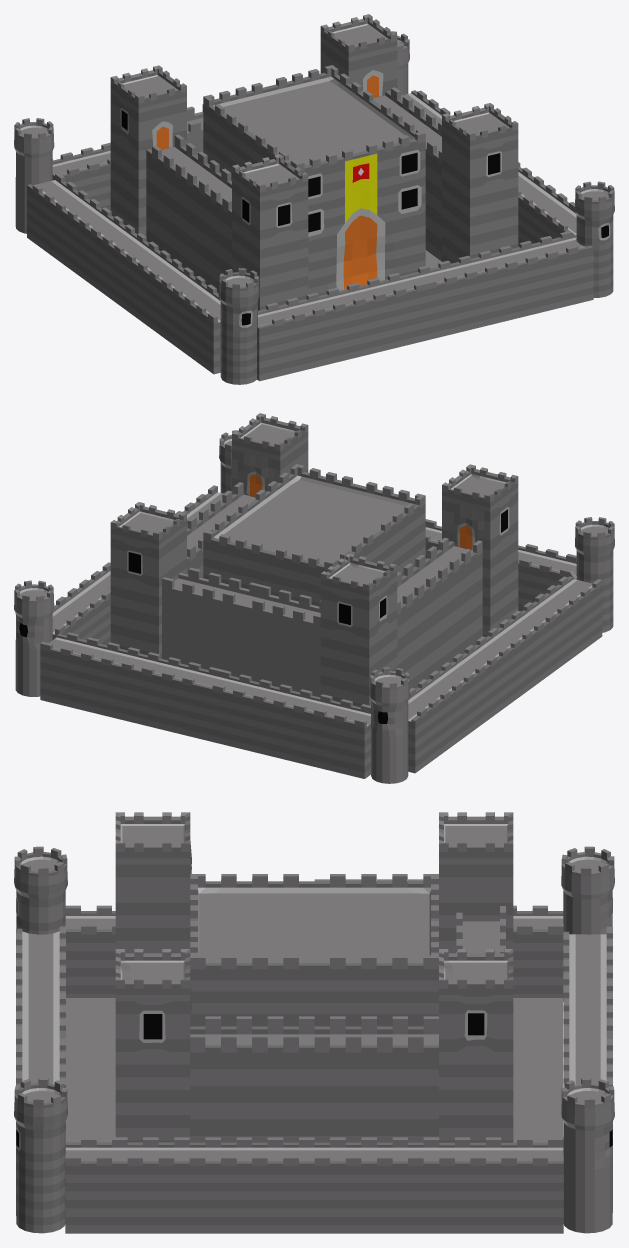
File: V_Medieval02_Castelo.fbx
3 views of the same model, one above another, from view 1: azimuth 30°, elevation 25°; view 2: azimuth 150°, elevation 25°; view 3: azimuth 270°, elevation 25° (orthographic). The views are drawn at different scales.
Visible parts, largest first — view 1: Castelo; view 2: Castelo; view 3: Castelo.
Boxes of the visible parts, bbox=[...] form: Castelo: bbox=[14, 14, 614, 384]; Castelo: bbox=[14, 413, 614, 783]; Castelo: bbox=[14, 812, 614, 1233].
Bounding box in the file's own units: 2417 × 938 × 2417.
